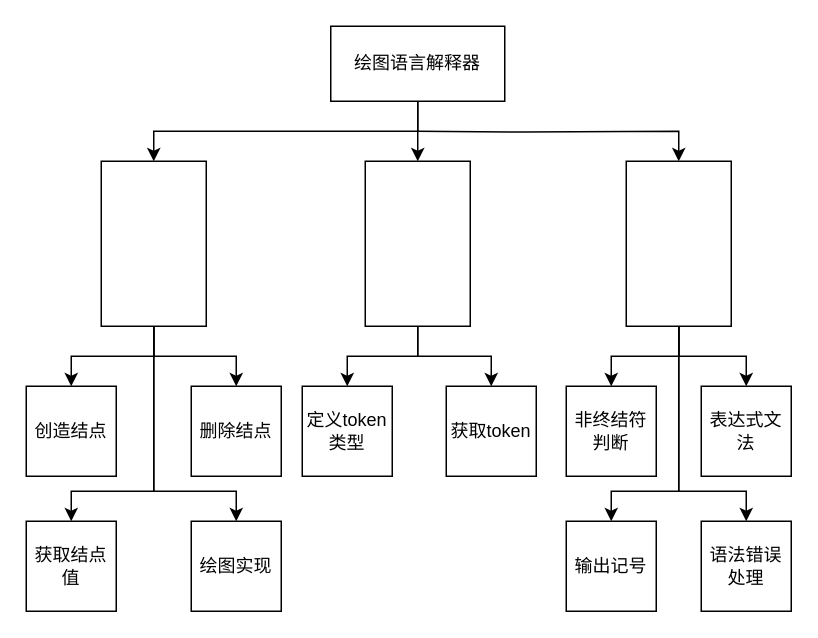
Image size: 818x638. Some labels were removed from this diagram. Each missing label, with the centre of its shape:
Scanner扫描类: [417,243]
绘图方法函数: [153,243]
语法分析: [678,243]
